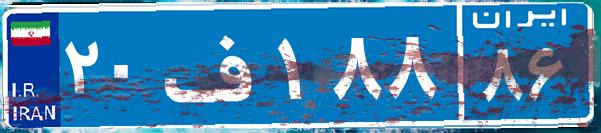0: (110, 28, 158, 105)
1: (273, 28, 330, 110)
2: (57, 26, 110, 107)
6: (525, 38, 570, 115)
8: (385, 28, 445, 110), (330, 28, 385, 110), (475, 38, 525, 113)
ف: (158, 15, 273, 115)
